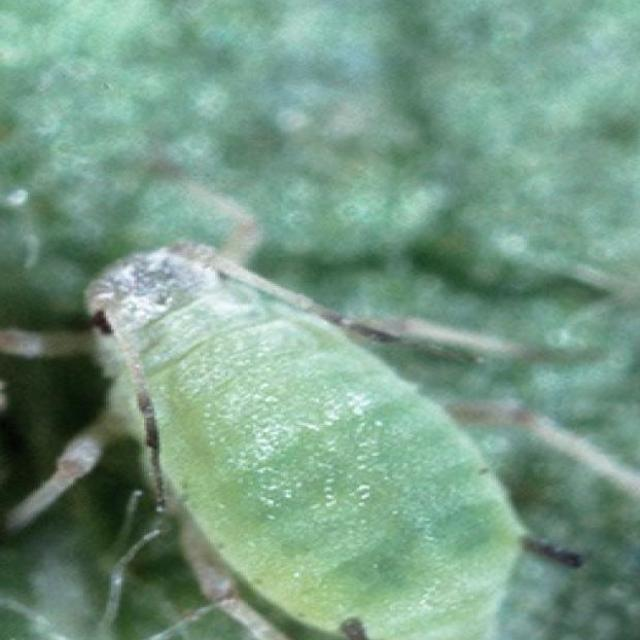Aphids: (0, 178, 552, 640)
